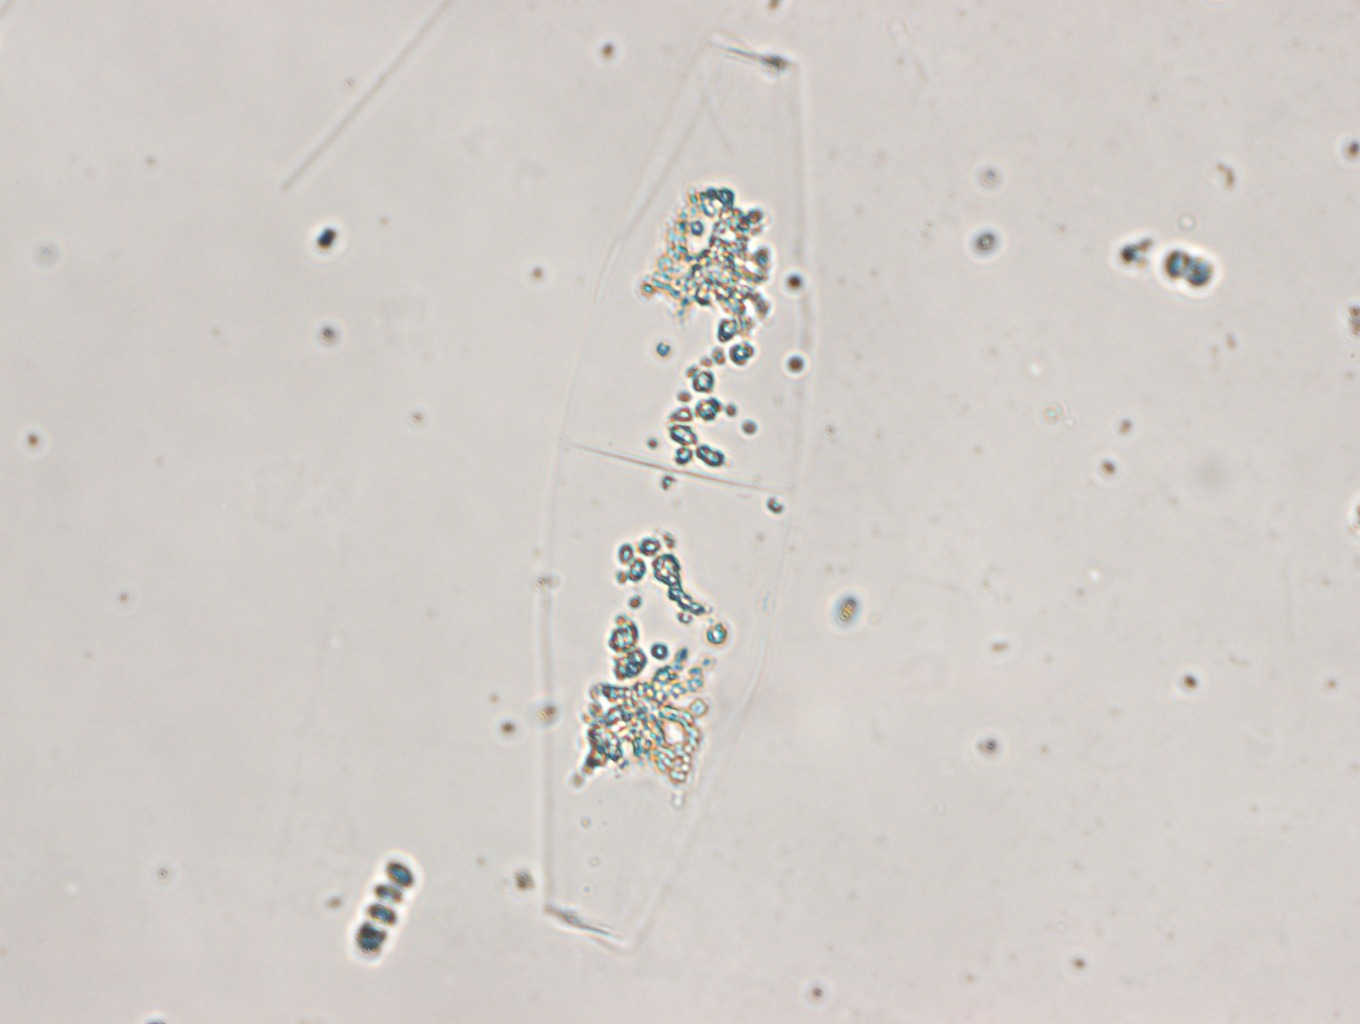helicotheca: (542, 35, 808, 947)
skeletonema: (355, 855, 414, 953)
